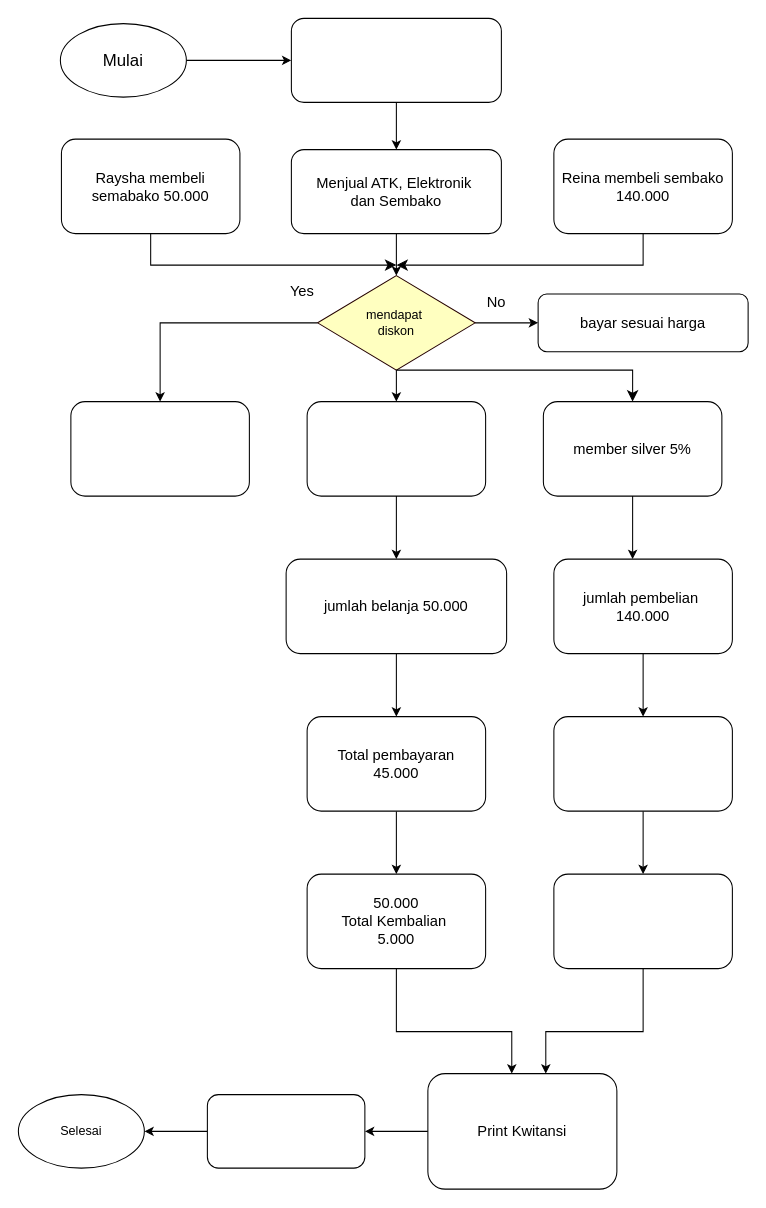
Image size: 766x1208. Some labels were removed from this diagram. Each missing label, with the centre of its shape:
"120.000 Total kembalian 1.000" goes at pixel 642 921.
"member gold 10%" goes at pixel 396 448.
"member plantinum 15%" goes at pixel 159 448.
"Penjualan di toko central mart" goes at pixel 395 59.
"Pulang ke Villa" goes at pixel 285 1131.
"Total pembayaran 119.000" goes at pixel 642 763.
